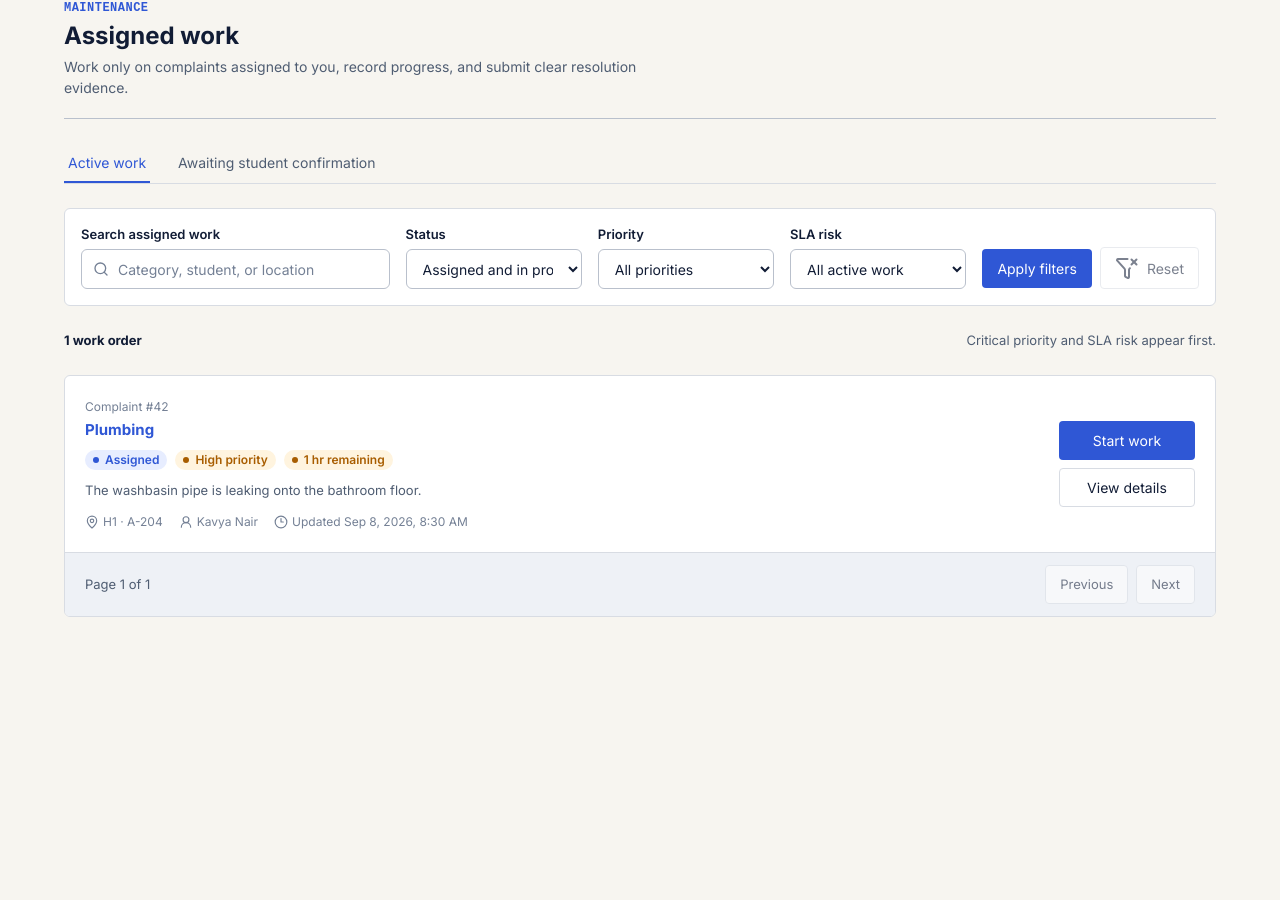
Scenario: maintenance work portal › starts only the selected assigned work order after confirmation
This screenshot has width=1280, height=900.
Expected: the text "1 work order" is shown, [64,330,142,351]
What coordinates should you click on to do the following:
click the button "Start work"
I would click on:
 (1127, 440)
Its box is [1059,421,1195,460].
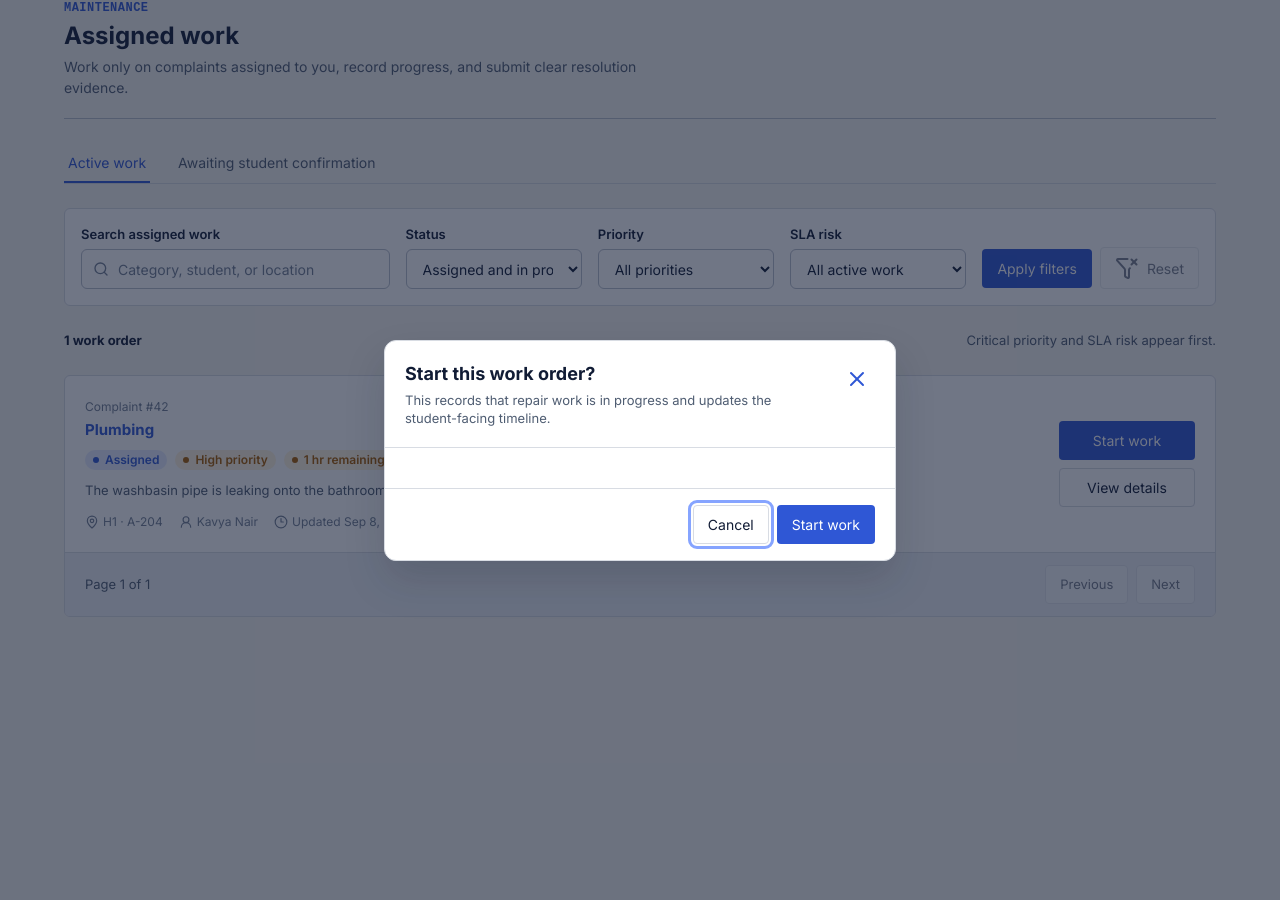
What coordinates should you click on to do the following:
click the button "Start work"
I would click on:
 (826, 524)
Its box is [777,504,875,544].
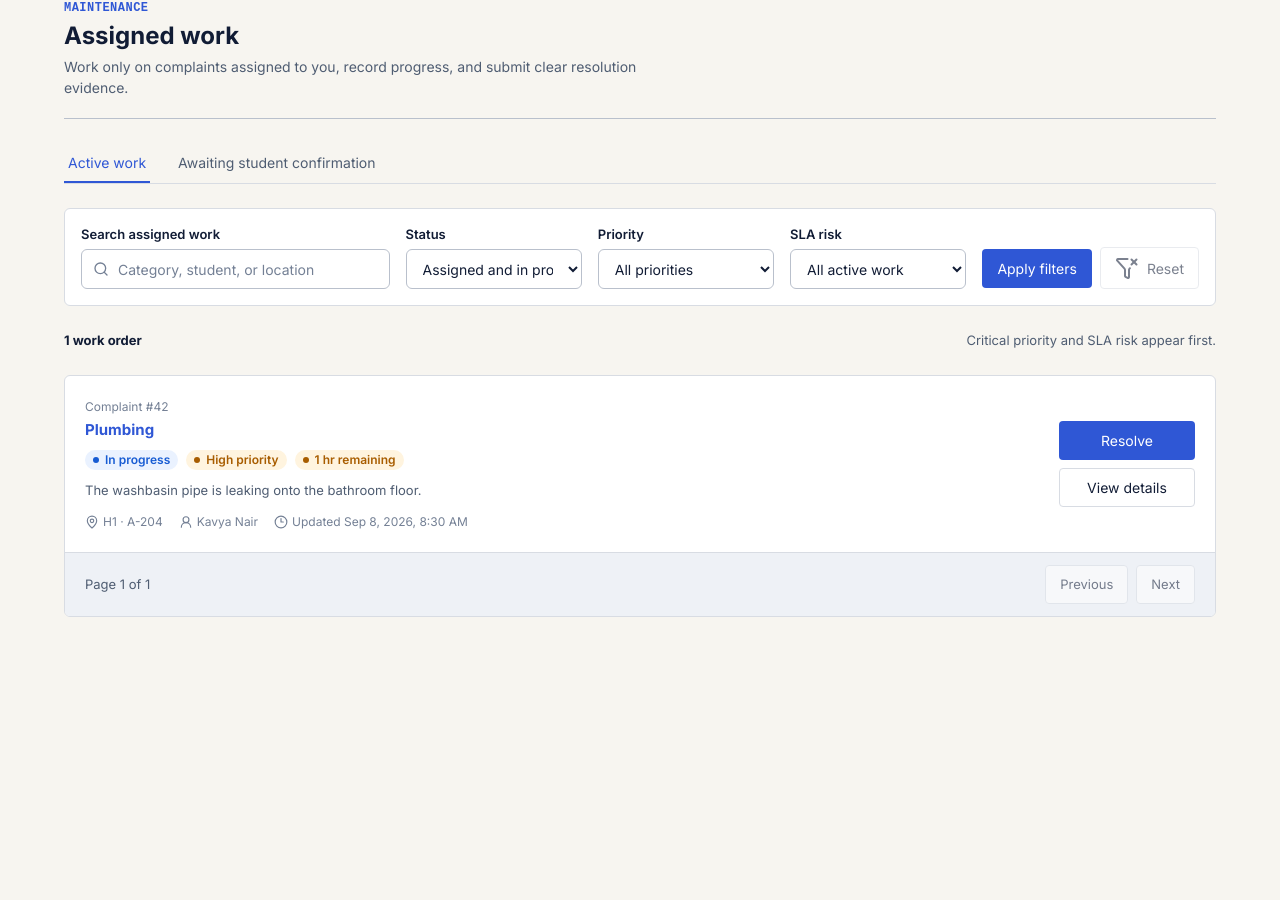
Now the button "Resolve" is shown, box [1059,421,1195,460]
